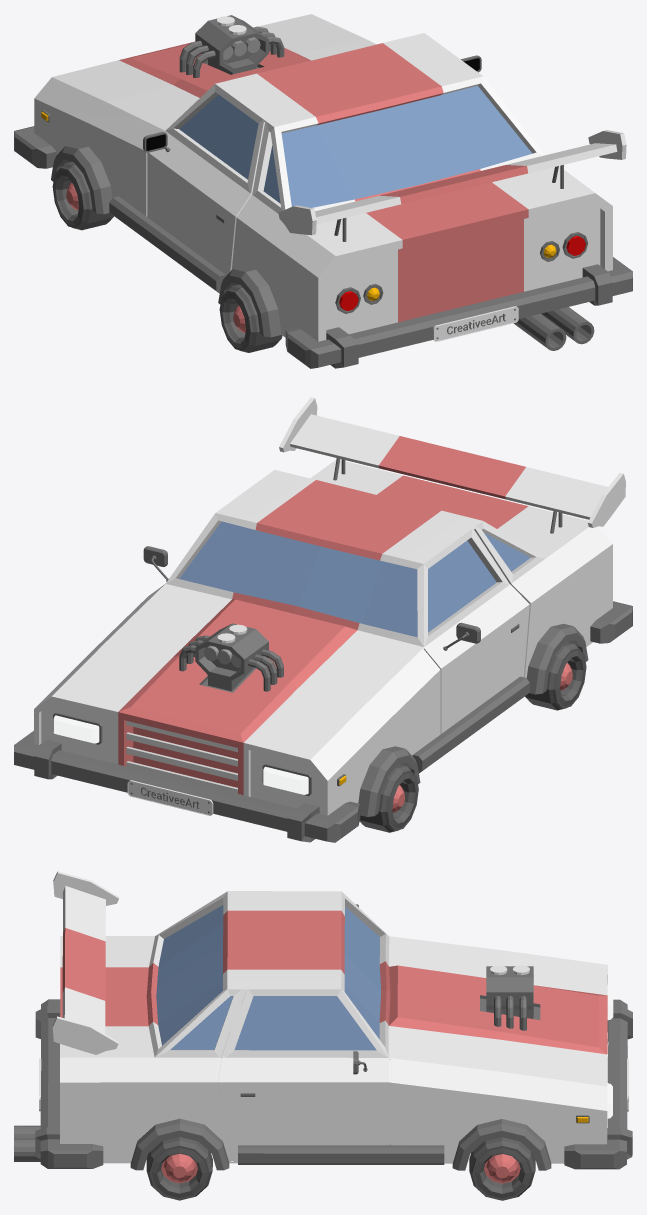
Rendered from vehicle2.glb.
3 renders of one model, top to bottom at view 1: azimuth 30°, elevation 25°; view 2: azimuth 150°, elevation 25°; view 3: azimuth 270°, elevation 25°, orthographic. The views are drawn at different scales.
Visible parts, largest first — view 1: Base, Bumper_02, base, Engine, Thresholds_lEft, Wheel_02, Wheel_01, Wing_2, Wing, Main, Tubes, Bumper_01 (+7 smaller); view 2: Base, base, Bumper_01, Engine, Grid, Thresholds_lEft, Wheel_01, Wheel_02, front_lights, Wing, Wing_2, Main_2 (+5 smaller); view 3: Base, base, Bumper_02, Bumper_01, Thresholds_Right, Wheel_01_3, Wheel_02_3, Wing_4, Wing_3, Engine, Right, LEft (+2 smaller).
Boxes of the visible parts, left/top/right/bottom form: Base: left=34, top=14, right=612, bottom=341; Bumper_02: left=285, top=257, right=632, bottom=368; base: left=315, top=143, right=617, bottom=224; Engine: left=195, top=15, right=268, bottom=74; Thresholds_lEft: left=109, top=196, right=225, bottom=293; Wheel_02: left=219, top=284, right=282, bottom=352; Wheel_01: left=52, top=161, right=113, bottom=230; Wing_2: left=218, top=266, right=281, bottom=337; Wing: left=51, top=143, right=112, bottom=214; Main: left=433, top=306, right=518, bottom=341; Tubes: left=179, top=26, right=284, bottom=77; Bumper_01: left=14, top=126, right=56, bottom=168; Base: left=34, top=460, right=612, bottom=815; base: left=290, top=414, right=607, bottom=519; Bumper_01: left=14, top=731, right=360, bottom=842; Engine: left=195, top=623, right=268, bottom=691; Grid: left=126, top=720, right=237, bottom=793; Thresholds_lEft: left=412, top=676, right=529, bottom=773; Wheel_01: left=359, top=764, right=418, bottom=832; Wheel_02: left=525, top=642, right=586, bottom=710; front_lights: left=53, top=712, right=311, bottom=795; Wing: left=358, top=746, right=420, bottom=816; Wing_2: left=526, top=623, right=588, bottom=694; Main_2: left=127, top=780, right=213, bottom=815; Base: left=60, top=891, right=607, bottom=1163; base: left=62, top=886, right=105, bottom=1033; Bumper_02: left=35, top=999, right=103, bottom=1168; Bumper_01: left=564, top=999, right=632, bottom=1169; Thresholds_Right: left=238, top=1144, right=444, bottom=1164; Wheel_01_3: left=469, top=1137, right=535, bottom=1200; Wheel_02_3: left=146, top=1137, right=212, bottom=1200; Wing_4: left=130, top=1118, right=229, bottom=1170; Wing_3: left=452, top=1119, right=551, bottom=1170; Engine: left=486, top=965, right=533, bottom=1018; Right: left=52, top=1016, right=118, bottom=1054; LEft: left=53, top=871, right=119, bottom=905.
Size of the model in its own units: 1.43 by 0.7728 by 2.35.
